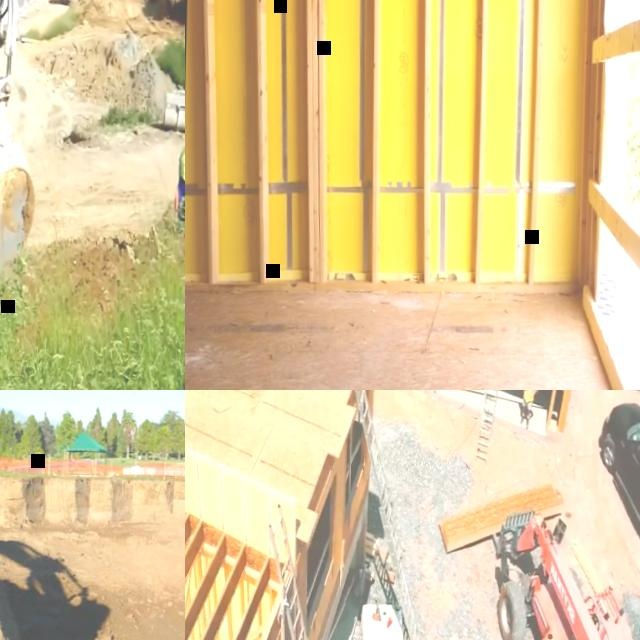Hardhat: (449, 636, 457, 640)
Person: (519, 390, 539, 430), (178, 133, 185, 205)
Safety Cone: (175, 187, 178, 210)
Safety Vest: (178, 140, 185, 180), (524, 390, 536, 397)
machinery: (488, 509, 640, 640), (0, 0, 41, 390)
vehicle: (595, 400, 640, 556)
